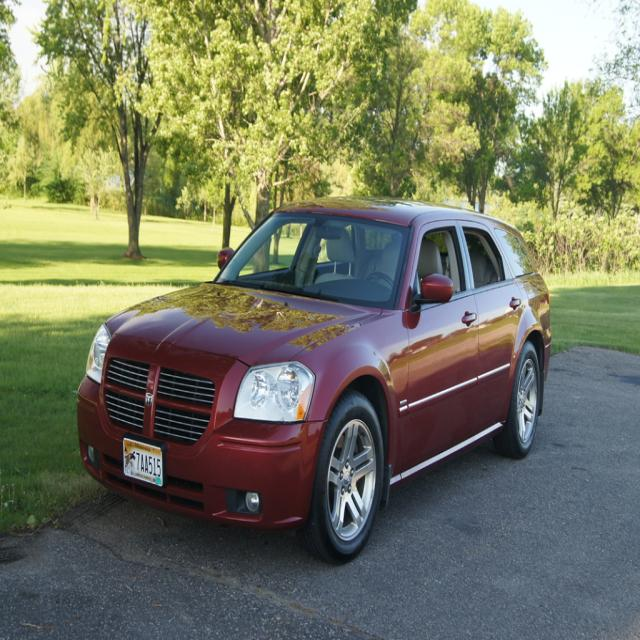car: (73, 192, 551, 569)
